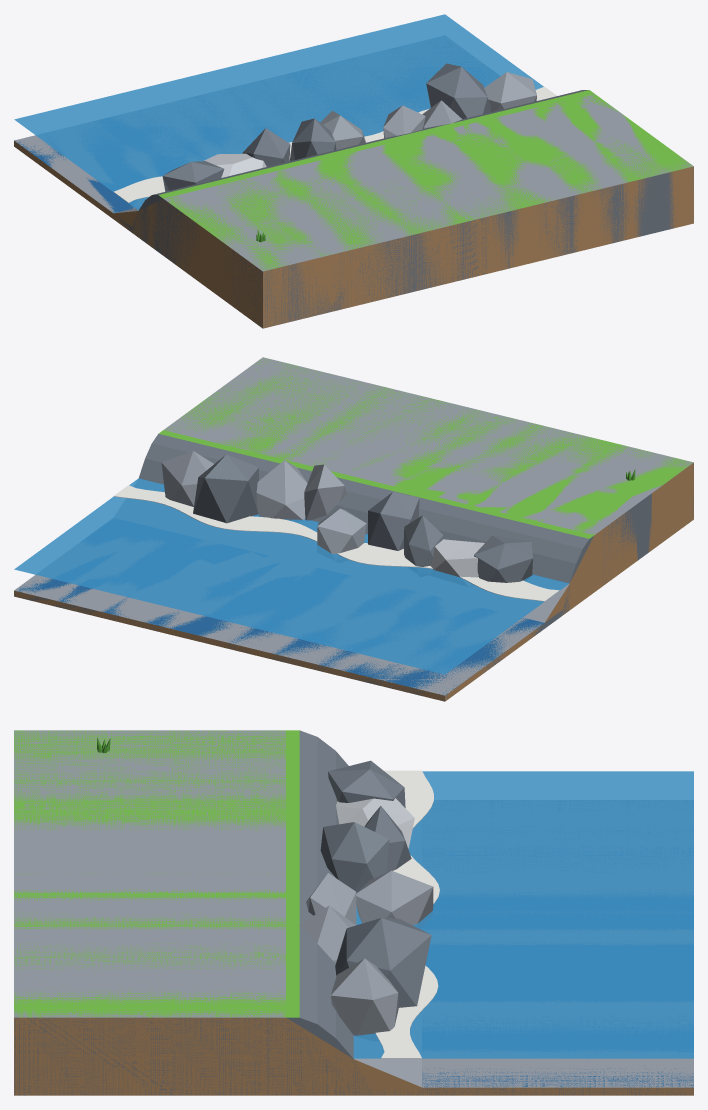
The model's file is costa_rocha_reta.glb.
3 views of the same model, one above another, from view 1: azimuth 30°, elevation 25°; view 2: azimuth 150°, elevation 25°; view 3: azimuth 270°, elevation 25° (orthographic). The views are drawn at different scales.
Parts seen in each view (by area): view 1: costa_rocha_reta, colisao_rocha; view 2: costa_rocha_reta, colisao_rocha; view 3: costa_rocha_reta, colisao_rocha.
Part boxes in pixels (x1,y1,x2,y2): costa_rocha_reta: [14, 14, 693, 327]; colisao_rocha: [14, 93, 693, 328]; costa_rocha_reta: [14, 358, 693, 701]; colisao_rocha: [14, 357, 693, 701]; costa_rocha_reta: [14, 730, 693, 1095]; colisao_rocha: [14, 730, 693, 1095].
Bounding box in the file's own units: 15 × 2.74 × 15.
Materials: 2 (1 with a texture image).
